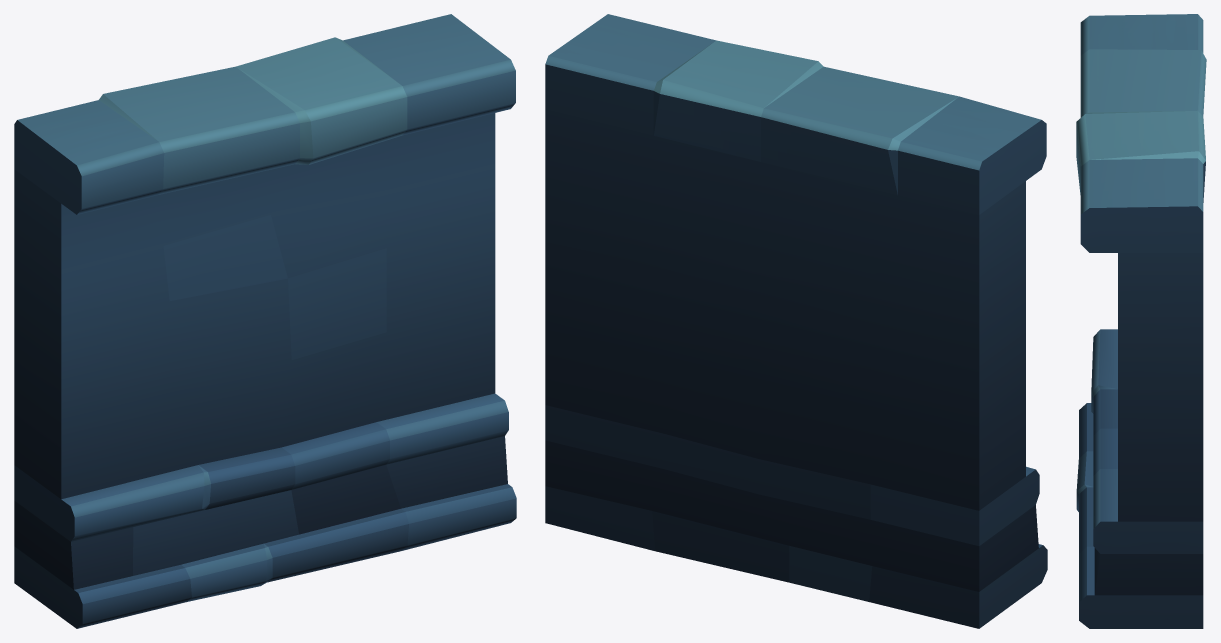
Rendered from wall_element_tileable_4meters.fbx.
The picture shows the model from 3 angles, left to right: view 1: azimuth 30°, elevation 25°; view 2: azimuth 150°, elevation 25°; view 3: azimuth 270°, elevation 25°; orthographic projection. The views are drawn at different scales.
Visible parts, largest first — view 1: wall_element_tileable_4meters; view 2: wall_element_tileable_4meters; view 3: wall_element_tileable_4meters.
Boxes of the visible parts, x1,y1,x2,y2 form: wall_element_tileable_4meters: [14, 14, 516, 628]; wall_element_tileable_4meters: [545, 14, 1047, 628]; wall_element_tileable_4meters: [1076, 14, 1206, 628].
Size of the model in its own units: 400 by 415 by 114.
